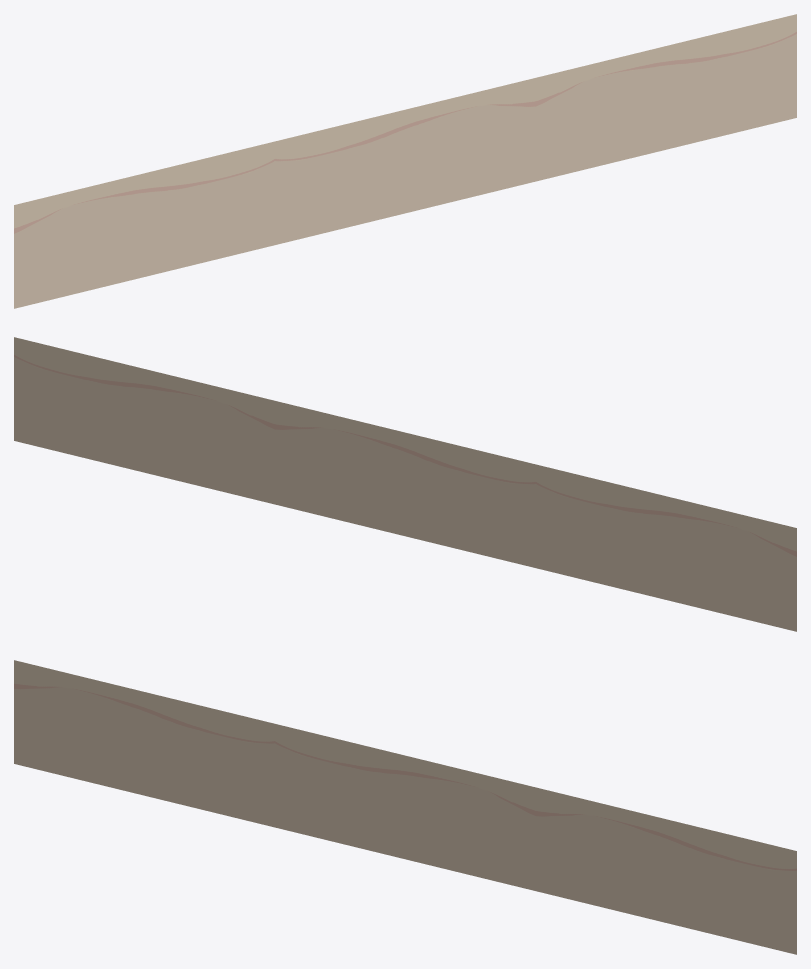
Rendered from Mesh_Adventure_Sand_Variant_Sand.fbx.
3 views of the same model, one above another, from view 1: azimuth 30°, elevation 25°; view 2: azimuth 150°, elevation 25°; view 3: azimuth 330°, elevation 25° (orthographic).
Parts seen in each view (by area): view 1: Mesh_Adventure_Sand_Variant_Sand; view 2: Mesh_Adventure_Sand_Variant_Sand; view 3: Mesh_Adventure_Sand_Variant_Sand.
Part boxes in pixels (bbox=[...]): Mesh_Adventure_Sand_Variant_Sand: bbox=[14, 14, 796, 308]; Mesh_Adventure_Sand_Variant_Sand: bbox=[14, 337, 796, 631]; Mesh_Adventure_Sand_Variant_Sand: bbox=[14, 660, 796, 954].
Bounding box in the file's own units: 8305 × 1052 × 0.
1 material, 1 textured.
